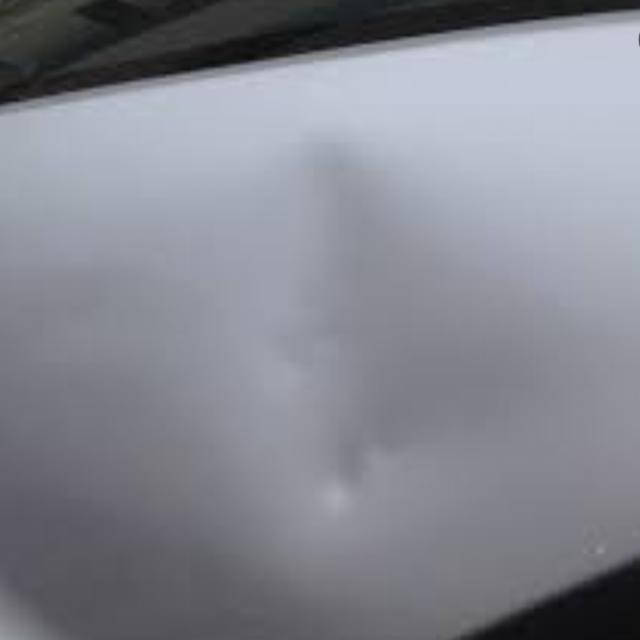dents: (247, 119, 502, 528)
